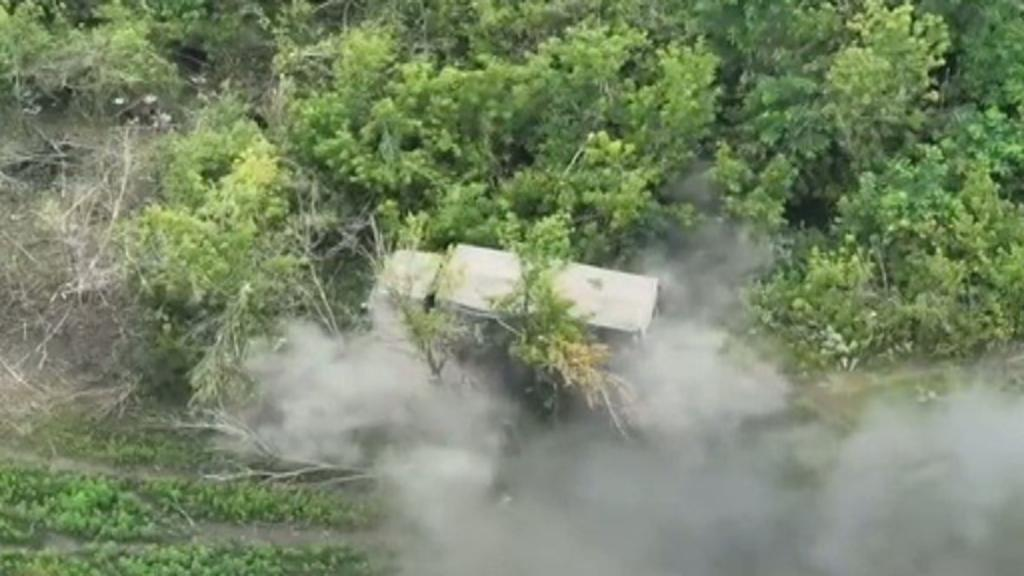TRUCK: (372, 240, 660, 397)
